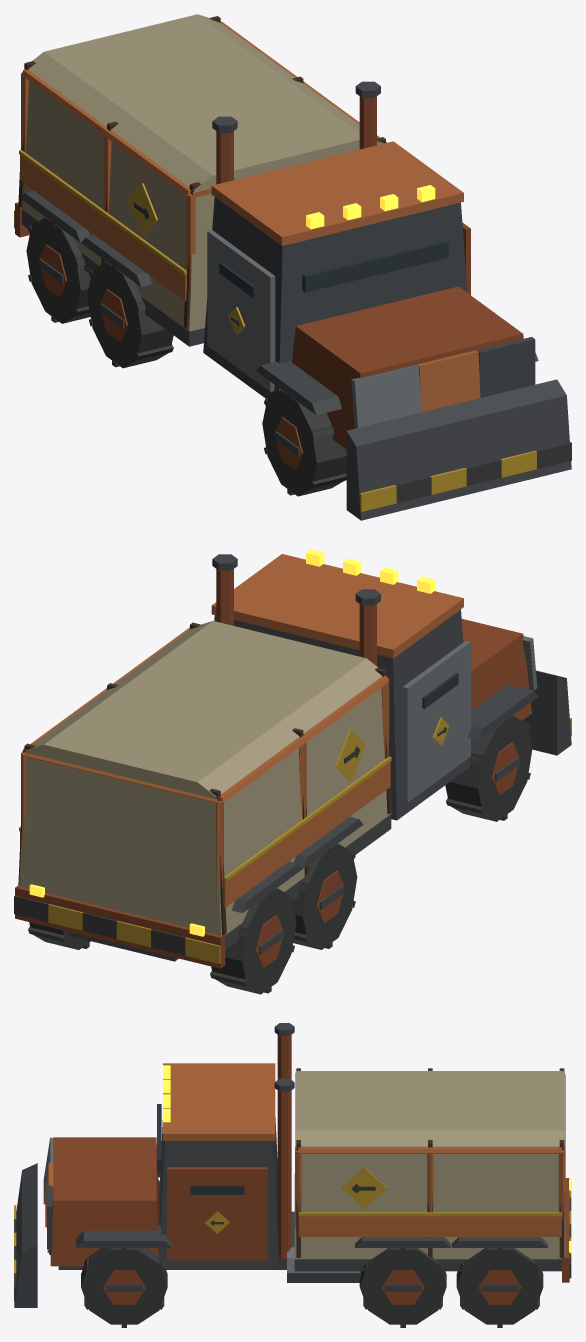
The model's file is long_haul_cargo_truck.glb.
3 renders of one model, top to bottom at view 1: azimuth 30°, elevation 25°; view 2: azimuth 150°, elevation 25°; view 3: azimuth 270°, elevation 25°, orthographic. The views are drawn at different scales.
Parts seen in each view (by area): view 1: body, wheel_fr, wheel_mr, wheel_rr; view 2: body, wheel_fr, wheel_rr, wheel_mr, wheel_rl; view 3: body, wheel_fl, wheel_ml, wheel_rl.
Part boxes in pixels (x1,y1,x2,y2): body: (14, 14, 571, 520); wheel_fr: (262, 390, 346, 496); wheel_mr: (87, 262, 173, 368); wheel_rr: (26, 217, 90, 323); body: (14, 549, 571, 968); wheel_fr: (445, 715, 532, 821); wheel_rr: (210, 888, 296, 994); wheel_mr: (293, 843, 357, 949); wheel_rl: (28, 922, 90, 949); body: (14, 1023, 571, 1307); wheel_fl: (81, 1248, 167, 1327); wheel_ml: (359, 1248, 446, 1327); wheel_rl: (456, 1248, 543, 1327).
Bounding box in the file's own units: 2.64 × 3.3 × 7.2.
